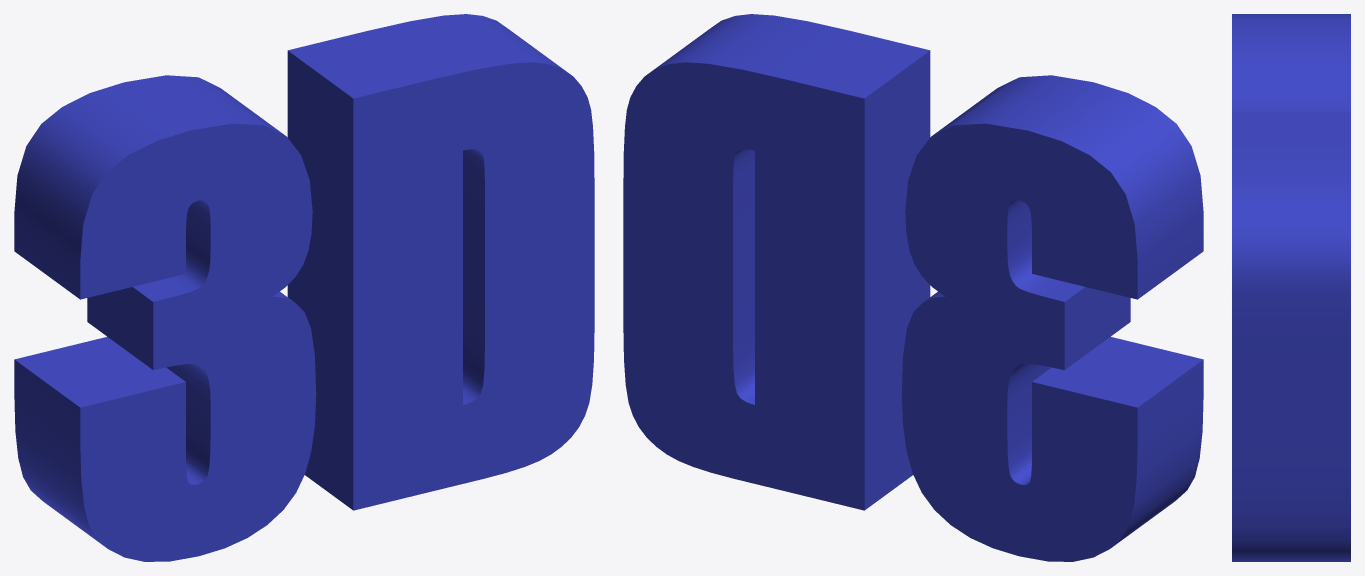
3 views of the same model, side by side, from view 1: azimuth 30°, elevation 25°; view 2: azimuth 150°, elevation 25°; view 3: azimuth 270°, elevation 25° (orthographic). The views are drawn at different scales.
Visible parts, largest first — view 1: node_id33; view 2: node_id33; view 3: node_id33.
Part boxes in pixels (left/top/right/bottom): node_id33: left=14, top=14, right=594, bottom=561; node_id33: left=623, top=14, right=1203, bottom=561; node_id33: left=1232, top=14, right=1350, bottom=561.
Size of the model in its own units: 0.0675 by 0.0537 by 0.015.
